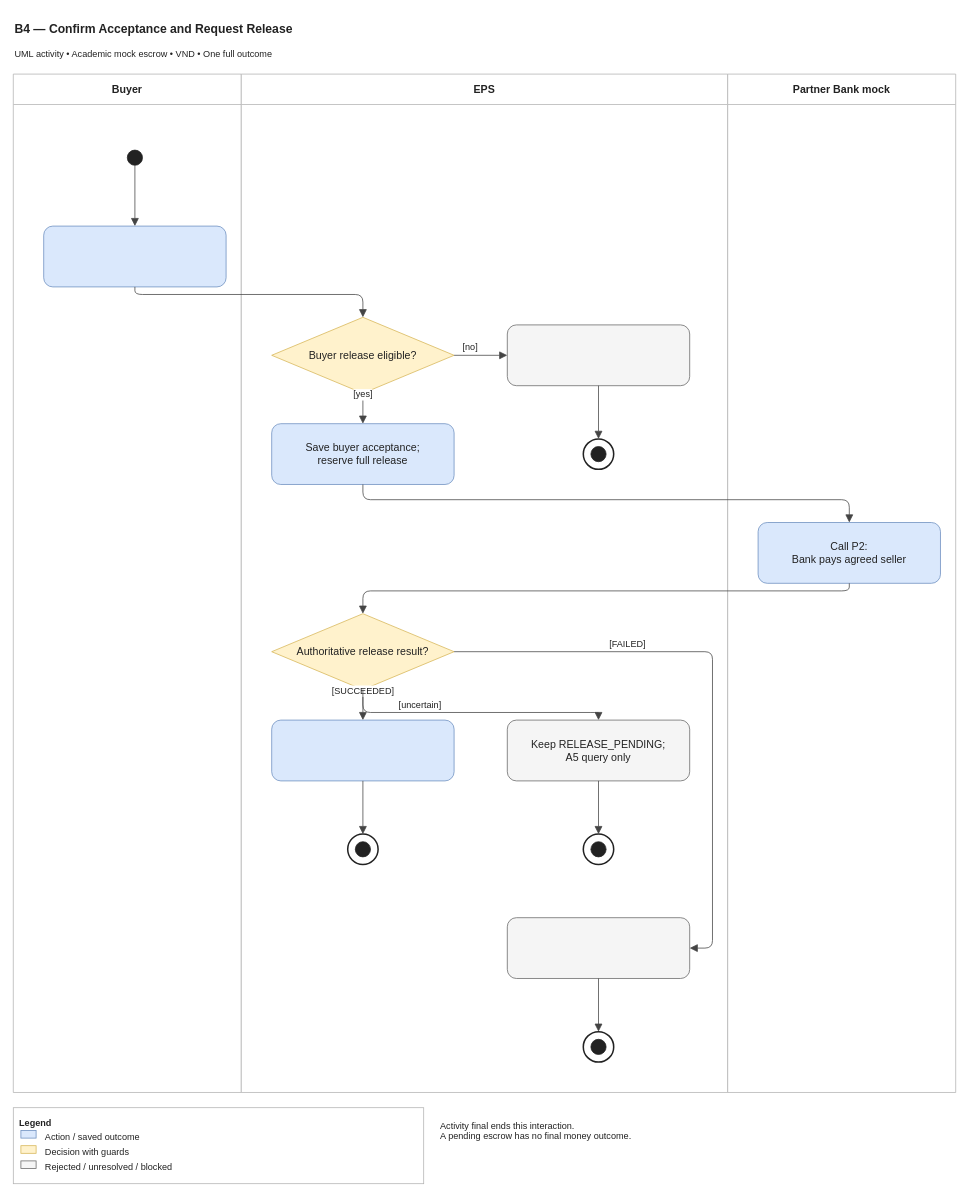
The diagram is 969 pixels wide and 1197 high, and some of its shapes have lost their labels. The shapes that lost their labels are listed below. From the top down, each one's centre as x and y in pixels, then its label:
[134,256]: Accept seller completion; request full release
[598,355]: Reject invalid release; reuse accepted operation
[362,750]: Show confirmed RELEASED
[598,947]: FAILED: no money moved; keep release lock; A5 retry only
